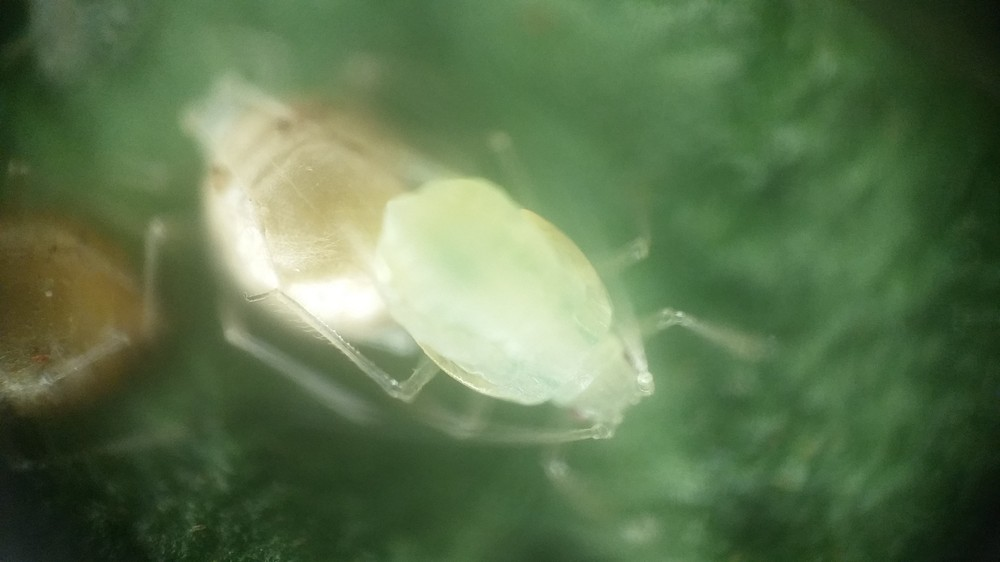Pulgon: (303, 120, 789, 482), (148, 70, 495, 421)
